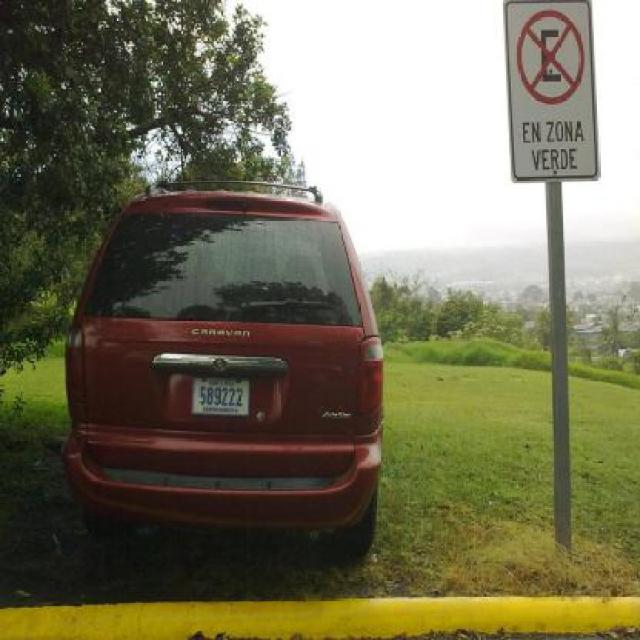License-Plates: (192, 377, 252, 417)
